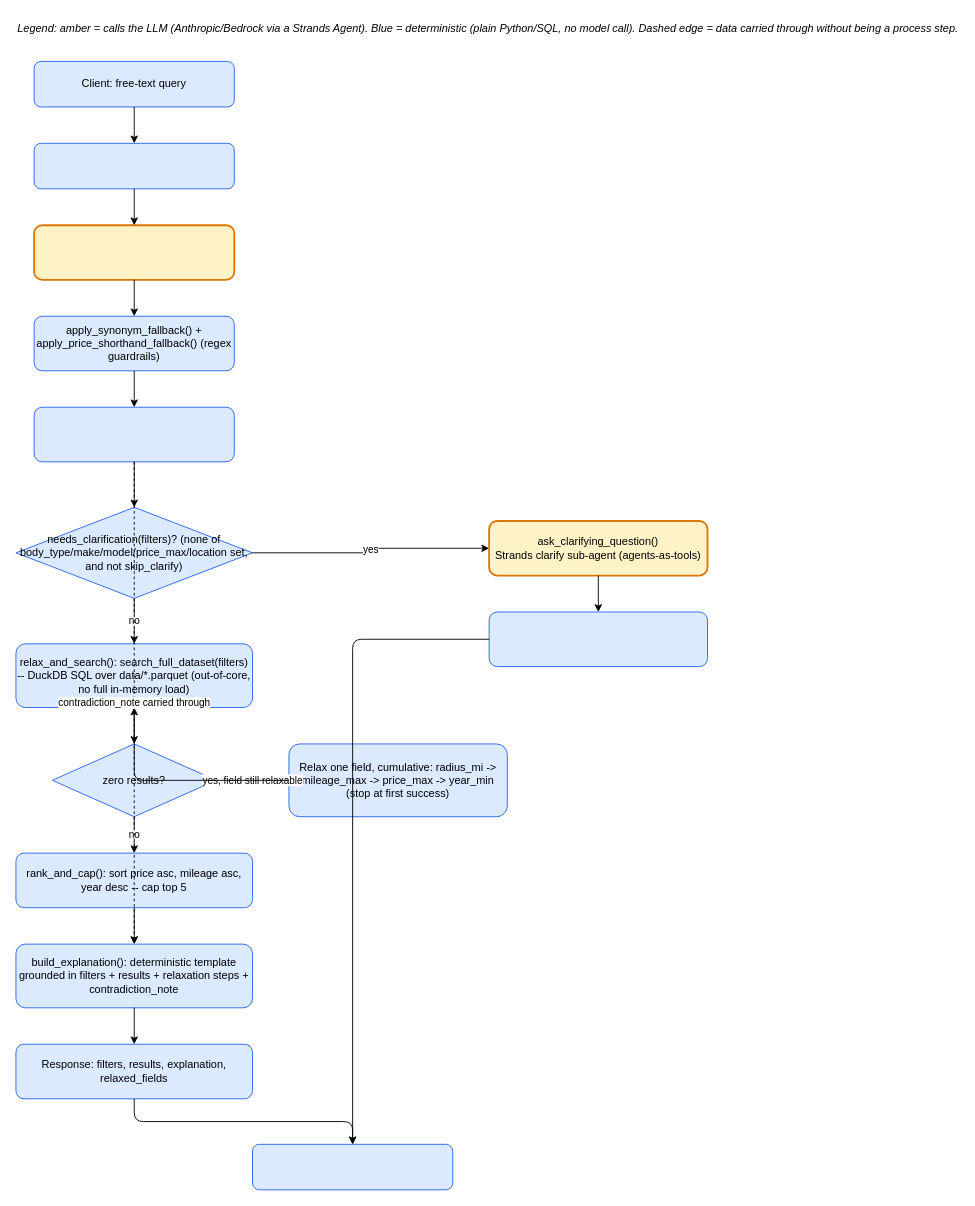
Some shapes in this 975 by 1206 pixel diagram are drawn without their labels. Each missing label, with the box of its shape:
Client: (252, 1143, 453, 1190)
detect_contradiction(query) (regex, e.g. "electric diesel SUV"): (33, 406, 234, 462)
extract_filters() Strands Agent: structured output -> SearchFilters: (33, 224, 235, 280)
POST /search (FastAPI): (33, 142, 234, 189)
Response: clarifying_question set, results = [] -- search never runs: (488, 611, 708, 667)
